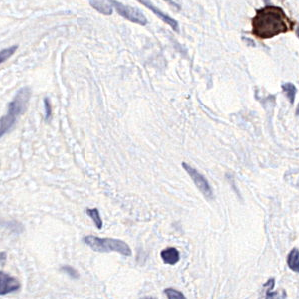Lymphocyte: (250, 4, 294, 39)
